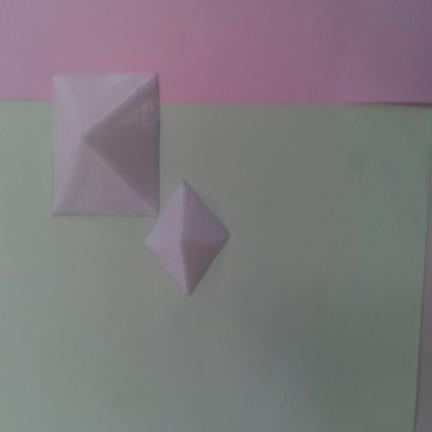Piramide: (51, 73, 160, 217), (144, 181, 230, 296)
